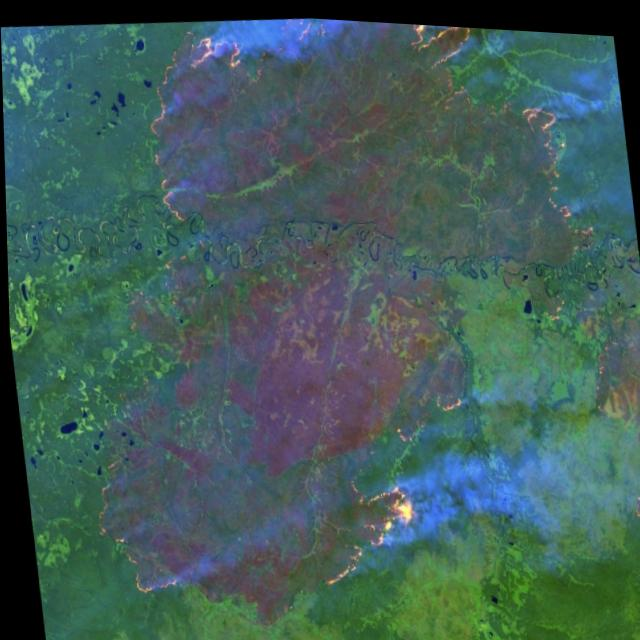fire: (505, 69, 623, 423), (129, 35, 204, 287), (303, 453, 425, 594), (187, 9, 346, 106), (85, 451, 178, 609), (402, 19, 489, 115)
